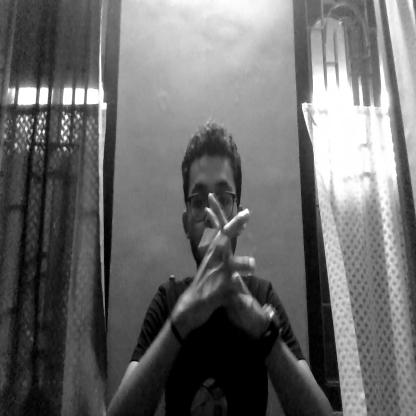Normal: (180, 119, 245, 272)
